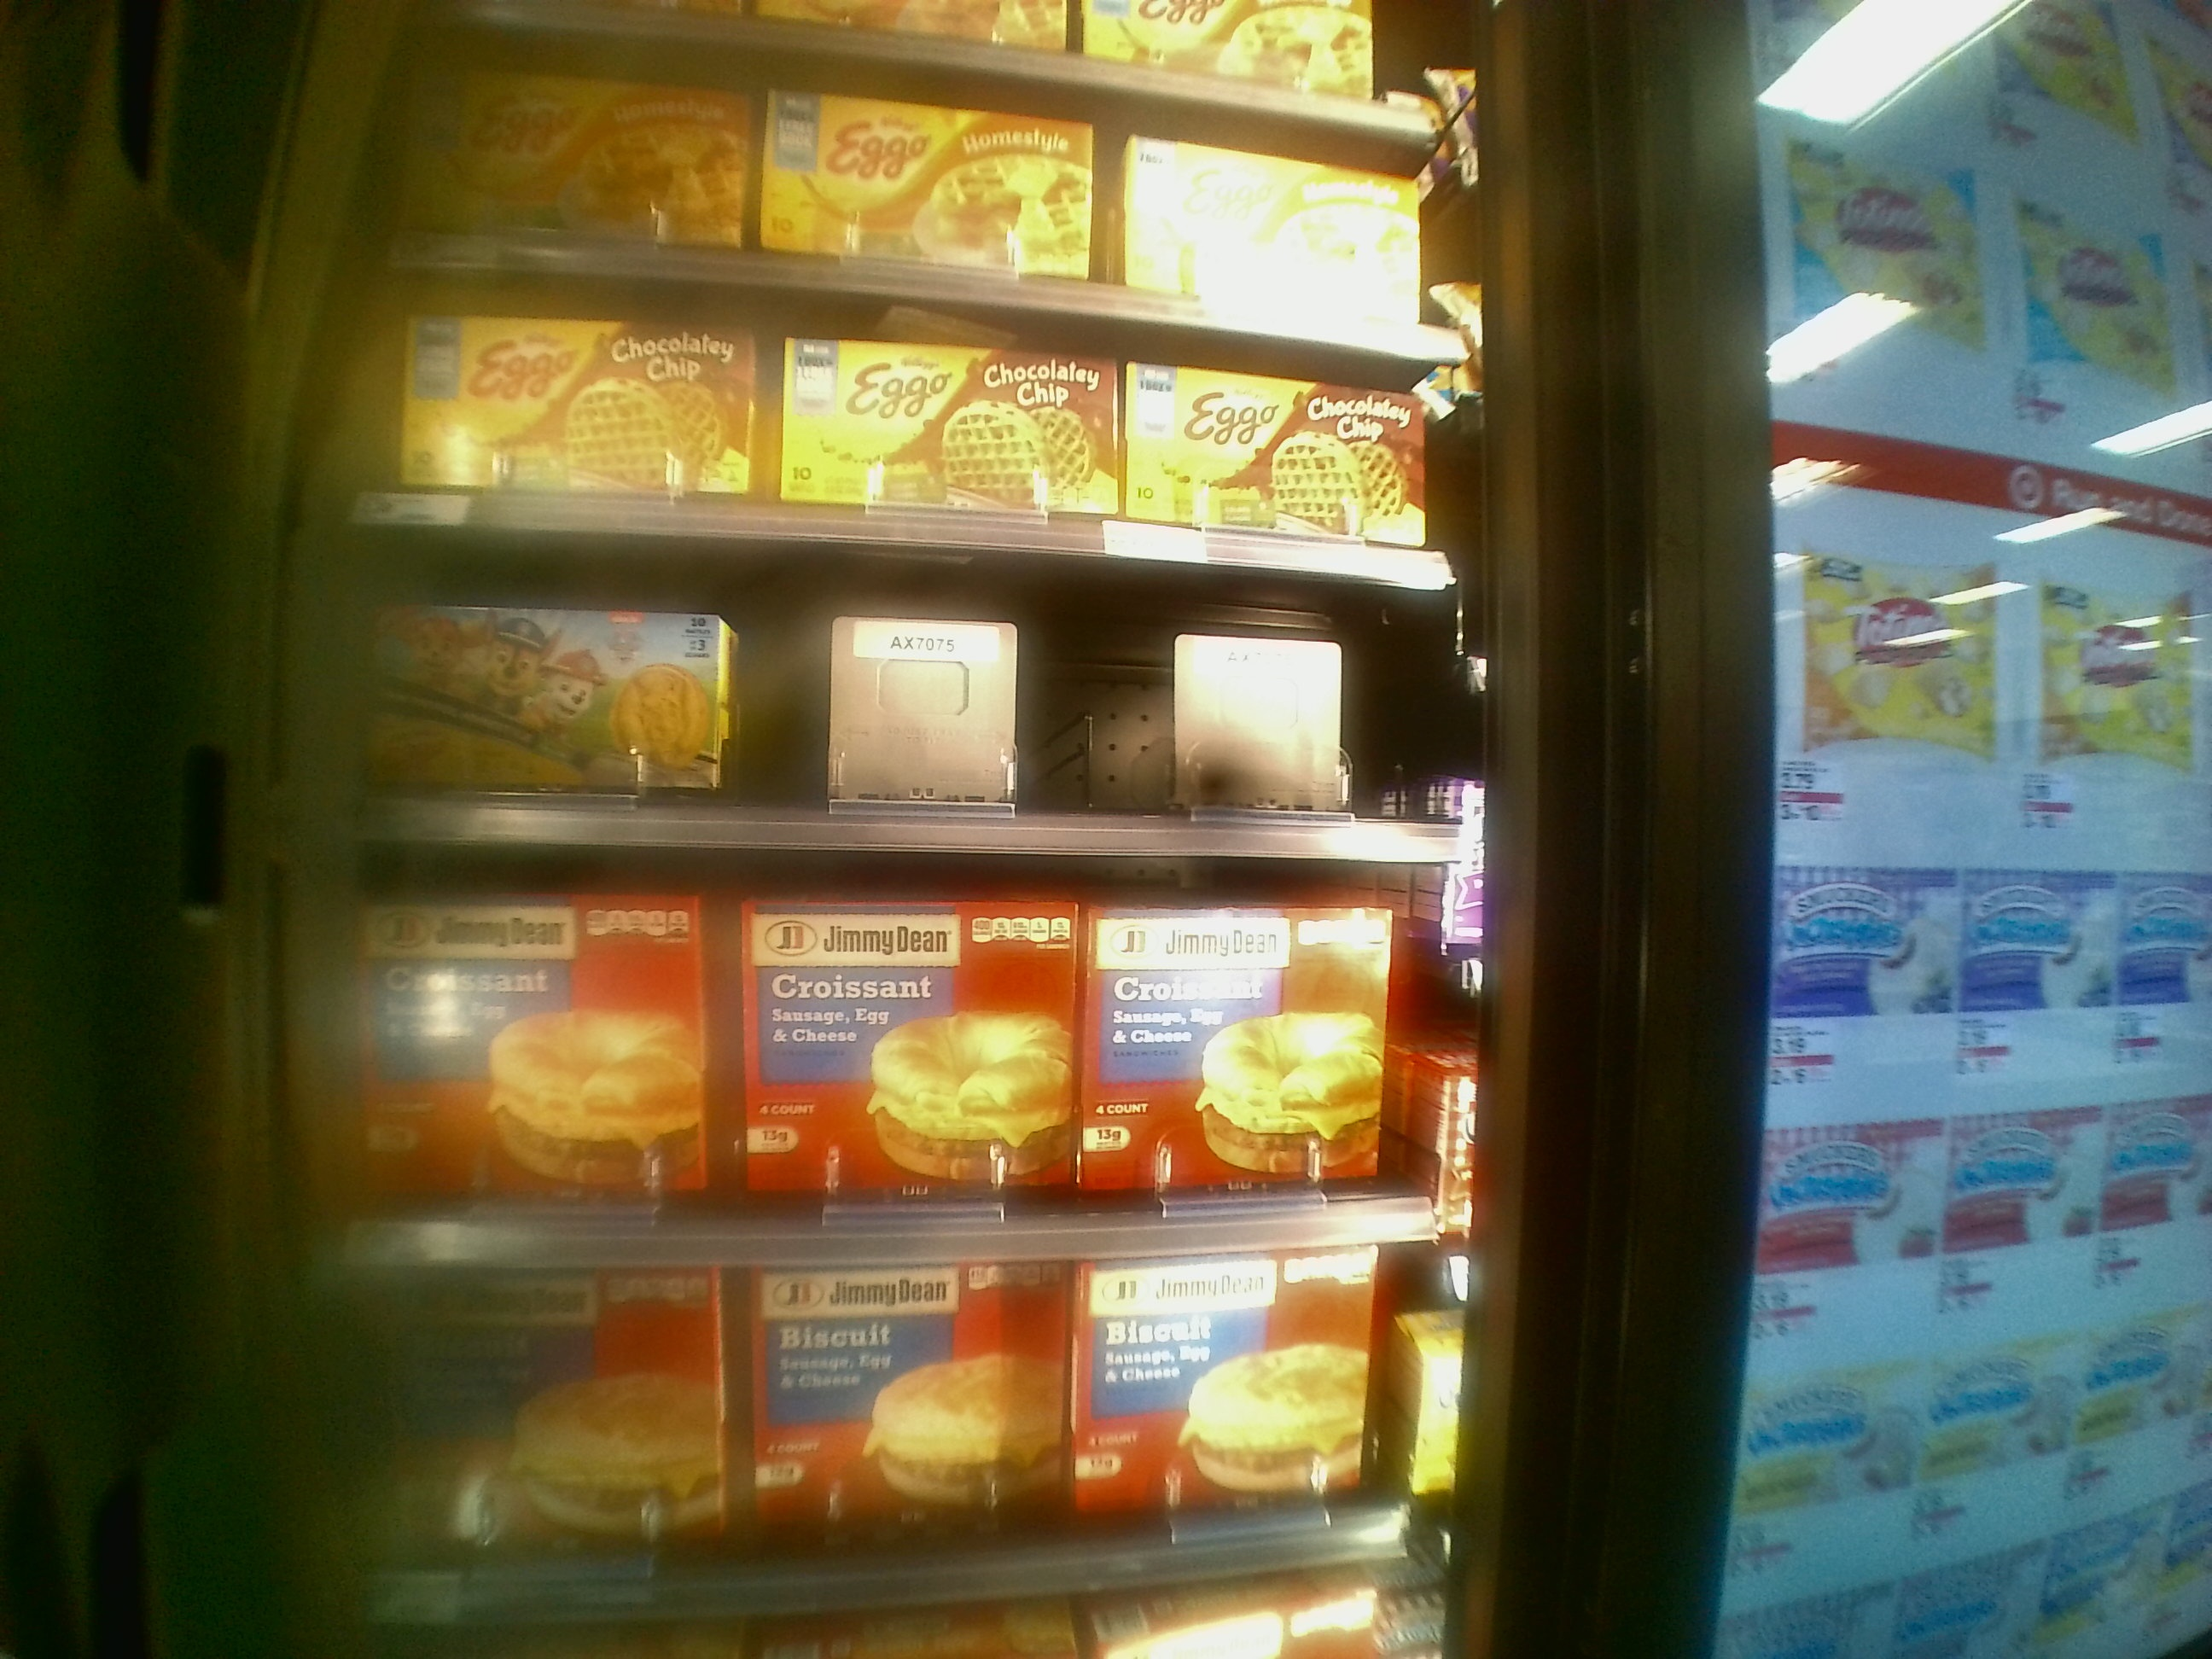shelf: (355, 854, 1470, 1265), (359, 535, 1470, 849), (361, 261, 1446, 552)
